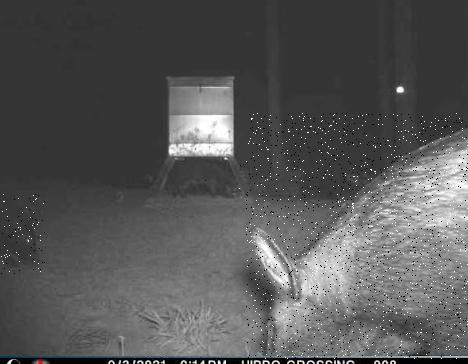Hog: (246, 113, 468, 359), (0, 194, 45, 275), (182, 157, 243, 201)
